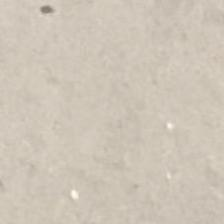Non_Crack: (14, 25, 194, 192)
